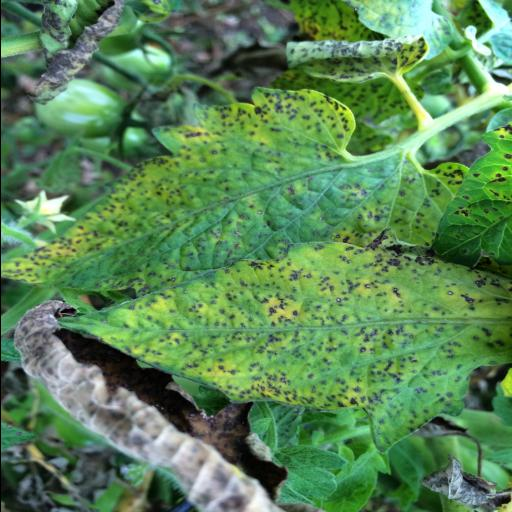Septoria: (44, 230, 512, 452), (0, 86, 468, 299), (431, 120, 512, 268), (282, 34, 428, 84)
